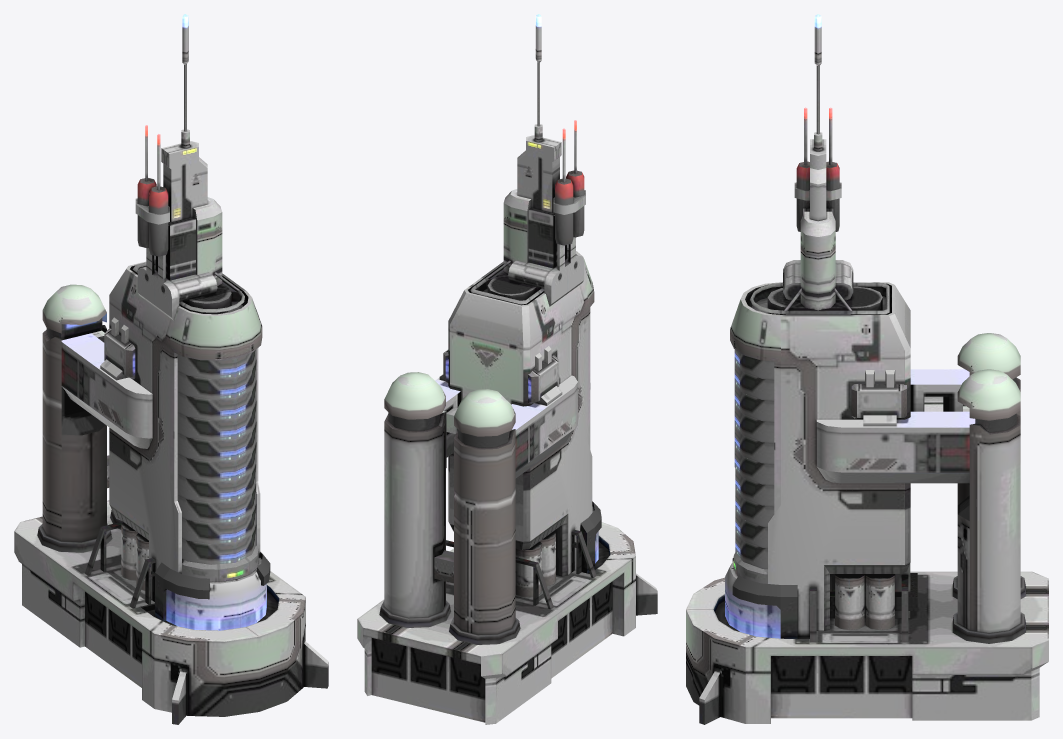
3 renders of one model, left to right at view 1: azimuth 30°, elevation 25°; view 2: azimuth 150°, elevation 25°; view 3: azimuth 270°, elevation 25°, orthographic. The views are drawn at different scales.
Visible parts, largest first — view 1: oil-refinery; view 2: oil-refinery; view 3: oil-refinery.
Boxes of the visible parts, box(x1,y1,x2,y2) form: oil-refinery: box(14, 14, 328, 724); oil-refinery: box(357, 14, 657, 724); oil-refinery: box(686, 14, 1048, 724).
Bounding box in the file's own units: 3.93 × 15.64 × 7.71.
Materials: 1 (1 with a texture image).
